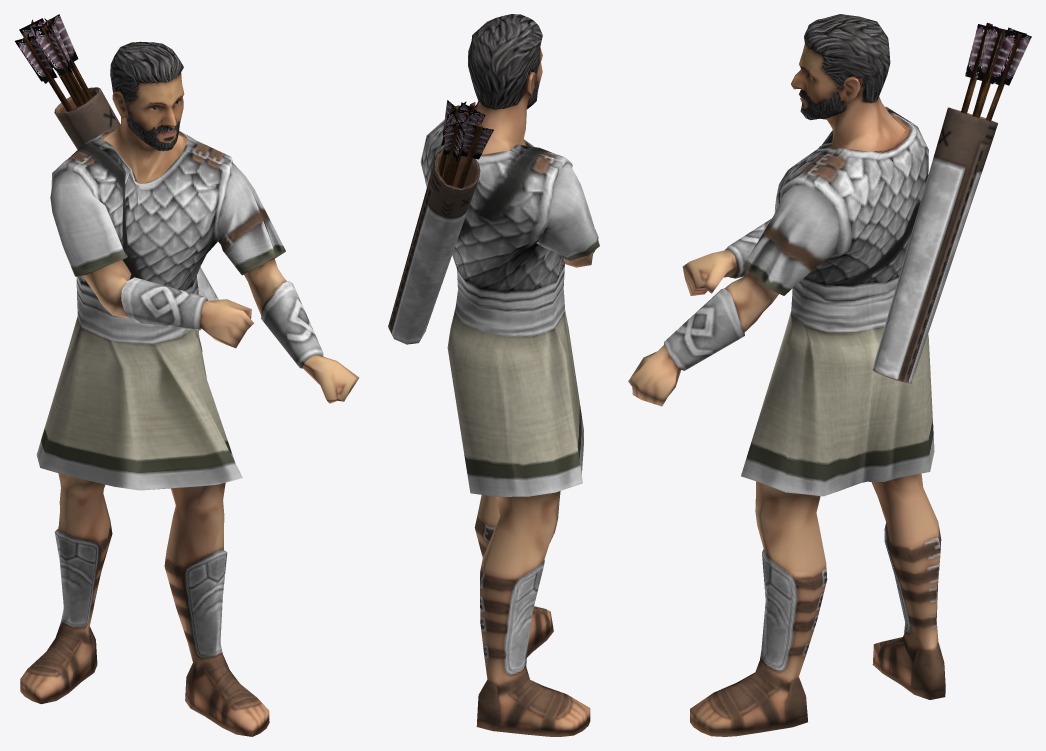
Rendered from body-heavyarchers.glb.
3 renders of one model, left to right at view 1: azimuth 30°, elevation 25°; view 2: azimuth 150°, elevation 25°; view 3: azimuth 270°, elevation 25°, orthographic. The views are drawn at different scales.
Size of the model in its own units: 0.7284 by 2.08 by 1.11.
1 material, 1 textured.
